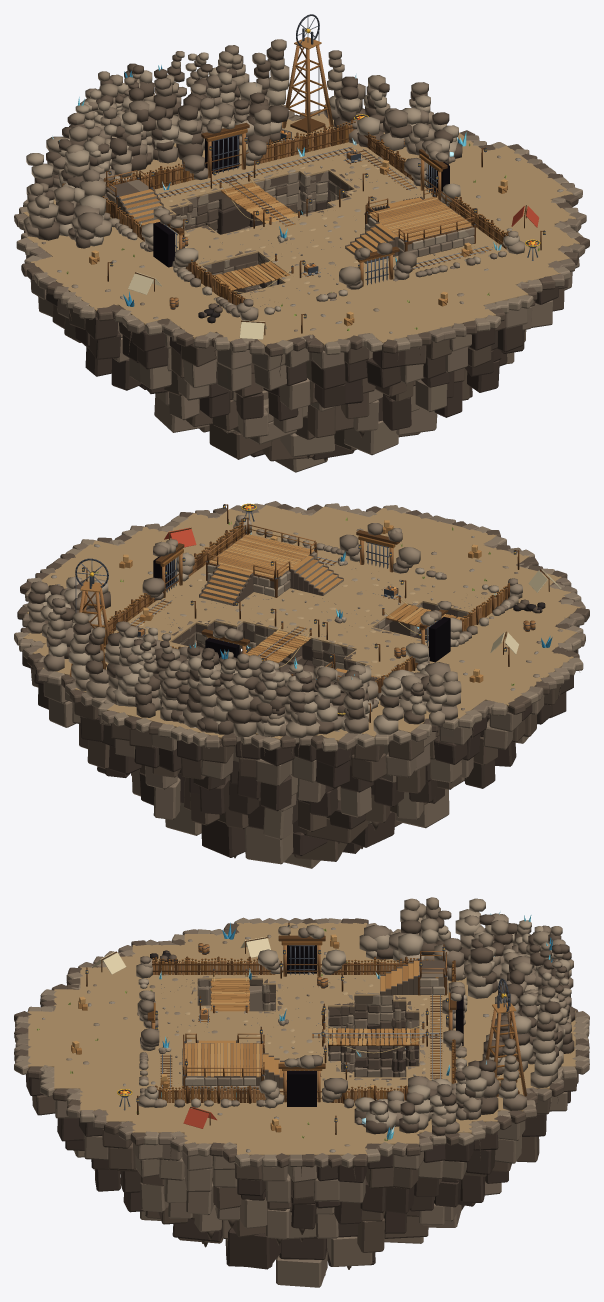
File: arene-mine.glb
The picture shows the model from 3 angles, top to bottom: view 1: azimuth 30°, elevation 25°; view 2: azimuth 150°, elevation 25°; view 3: azimuth 270°, elevation 25°; orthographic projection.
Visible parts, largest first — view 1: pierre_fond.129, pierre_fond.068, pierre_fond.095, pierre_fond.132, tunnel, tunnel.001, pierre_fond.141, pierre.055, pierre_fond.080, pierre.153, pierre_fond.060, pierre.039 (+16 smaller); view 2: pierre_fond.087, pierre_fond.116, pierre_fond.144, tunnel.001, pierre_fond.061, pierre_fond.077, pierre_fond.102, pierre_fond.036, pierre_fond.046, pierre.091, pierre.041, pierre_fond.066 (+32 smaller); view 3: pierre_fond.207, pierre_fond.179, pierre_fond.200, tunnel.002, pierre_fond.178, pierre_fond.217, pierre_fond.235, pierre_fond.223, tunnel.001, pierre_fond.238, pierre_fond.212, pierre_fond.188 (+23 smaller).
Boxes of the visible parts, x1,y1,x2,y2 form: pierre_fond.129: [344, 420, 398, 455]; pierre_fond.068: [209, 424, 271, 459]; pierre_fond.095: [280, 433, 334, 457]; pierre_fond.132: [382, 393, 411, 430]; tunnel: [205, 135, 239, 173]; tunnel.001: [153, 222, 174, 267]; pierre_fond.141: [415, 379, 447, 411]; pierre.055: [216, 361, 251, 391]; pierre_fond.080: [307, 405, 335, 437]; pierre.153: [217, 205, 251, 234]; pierre_fond.060: [280, 378, 310, 410]; pierre.039: [183, 360, 216, 388]; pierre_fond.087: [245, 824, 293, 864]; pierre_fond.116: [201, 820, 245, 857]; pierre_fond.144: [153, 777, 180, 819]; tunnel.001: [429, 617, 450, 662]; pierre_fond.061: [260, 775, 291, 811]; pierre_fond.077: [263, 807, 292, 839]; pierre_fond.102: [199, 778, 229, 814]; pierre_fond.036: [340, 786, 371, 817]; pierre_fond.046: [396, 789, 449, 828]; pierre.091: [305, 818, 367, 843]; pierre.041: [351, 753, 386, 782]; pierre_fond.066: [351, 811, 394, 847]; pierre_fond.207: [228, 1228, 280, 1269]; pierre_fond.179: [276, 1250, 327, 1287]; pierre_fond.200: [327, 1236, 372, 1266]; tunnel.002: [287, 1071, 316, 1106]; pierre_fond.178: [279, 1238, 327, 1259]; pierre_fond.217: [357, 1217, 384, 1252]; pierre_fond.235: [240, 1197, 267, 1228]; pierre_fond.223: [266, 1208, 292, 1239]; tunnel.001: [287, 945, 316, 973]; pierre_fond.238: [385, 1186, 414, 1213]; pierre_fond.212: [140, 1182, 168, 1212]; pierre_fond.188: [460, 1174, 484, 1202].
Bounding box in the file's own units: 44.22 × 29.15 × 44.18.
